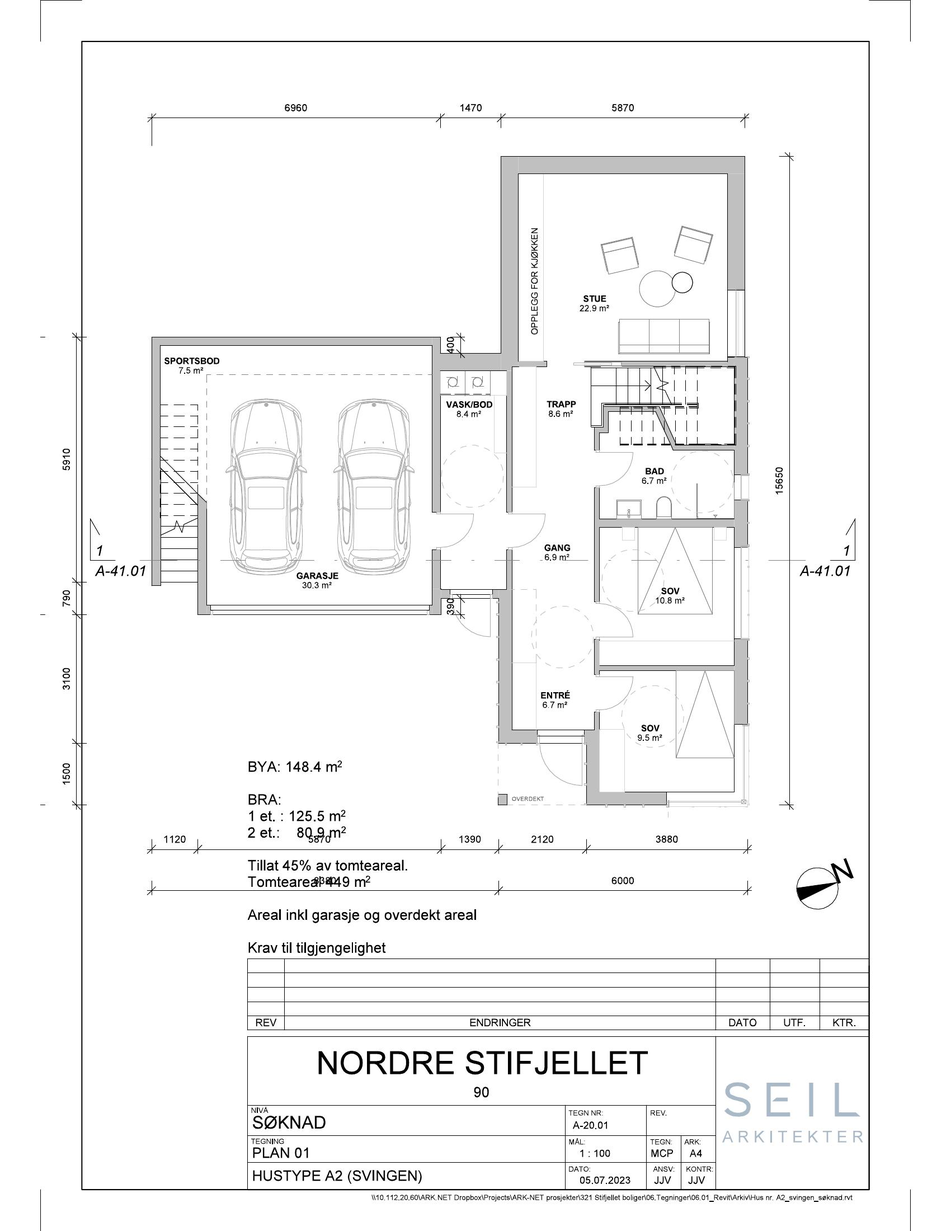plantegning: (152, 144, 769, 802)
tekst: (247, 1145, 310, 1160), (577, 1147, 614, 1160)
